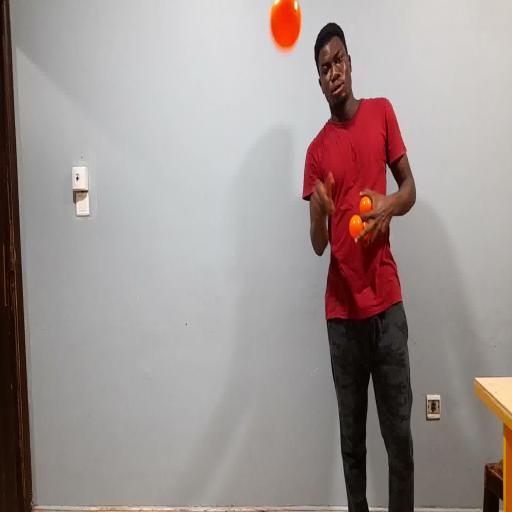plastic-ball: (268, 0, 305, 58)
